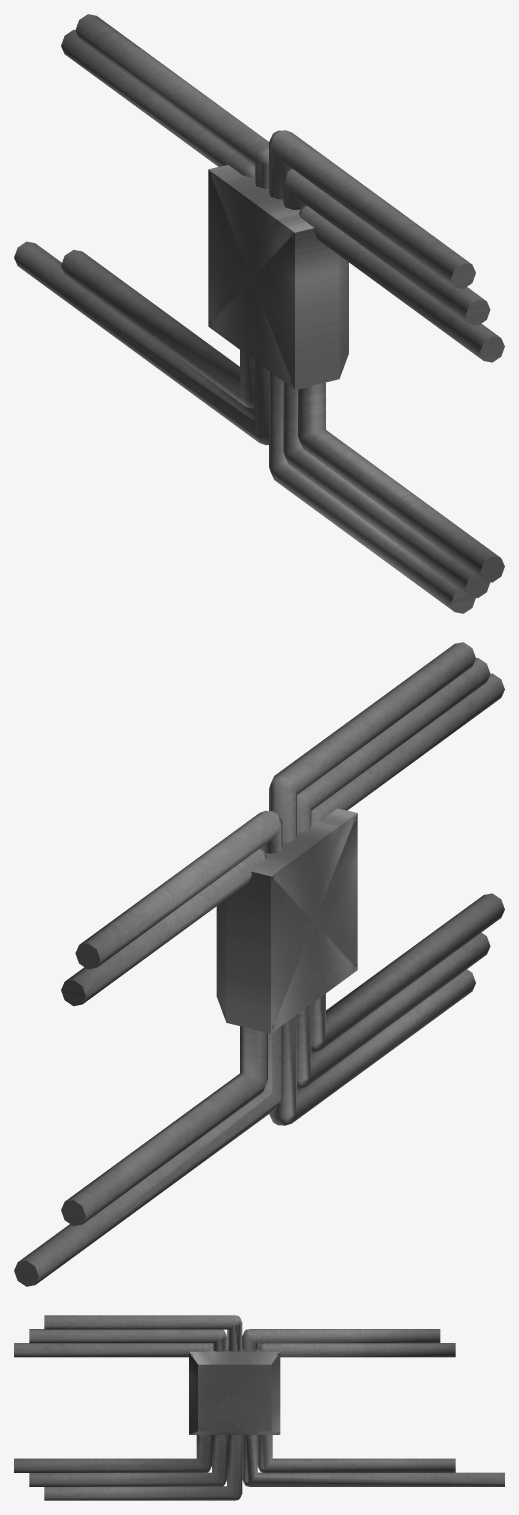
The model's file is transformerbox1.glb.
3 views of the same model, one above another, from view 1: azimuth 30°, elevation 25°; view 2: azimuth 150°, elevation 25°; view 3: azimuth 270°, elevation 25° (orthographic). The views are drawn at different scales.
Visible parts, largest first — view 1: CSGCylinder3D2; view 2: CSGCylinder3D2; view 3: CSGCylinder3D2.
Boxes of the visible parts, box(x1,y1,x2,y2) form: CSGCylinder3D2: box(14, 14, 504, 613); CSGCylinder3D2: box(14, 642, 504, 1286); CSGCylinder3D2: box(14, 1315, 504, 1500).
Bounding box in the file's own units: 0.5 × 2.68 × 6.45.
1 material, 1 textured.
